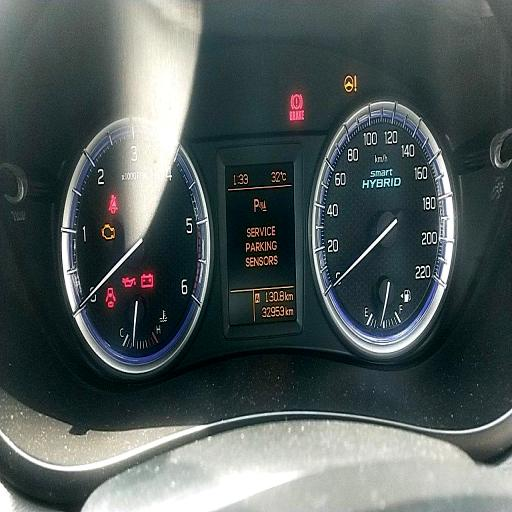belt: (109, 194, 118, 214)
brake_system_fault: (291, 93, 303, 110)
check_engine: (102, 222, 116, 240)
oil: (122, 276, 136, 288)
tachometer: (62, 115, 210, 372)
vehicle_charging: (140, 274, 154, 288)
